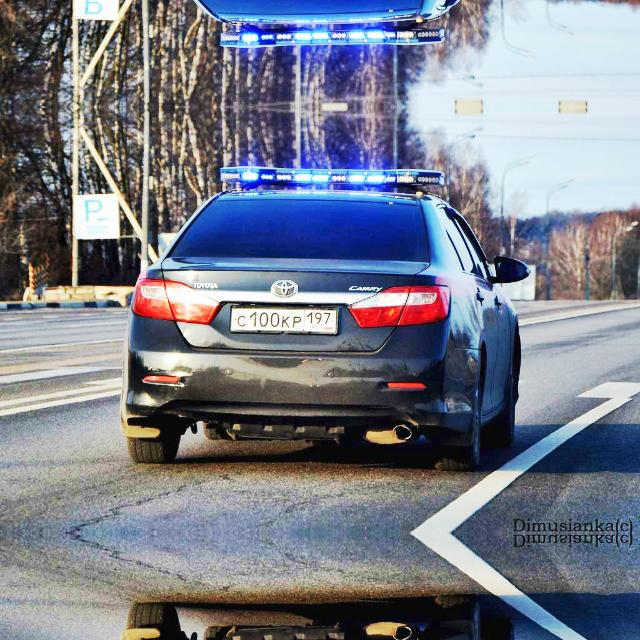citizen: (228, 302, 340, 338)
